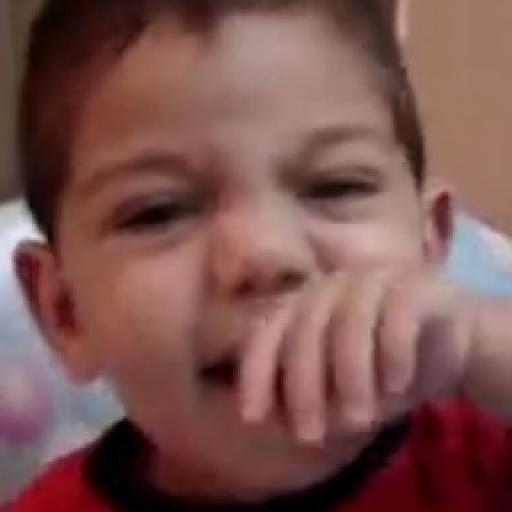Autism: (65, 47, 494, 448)
